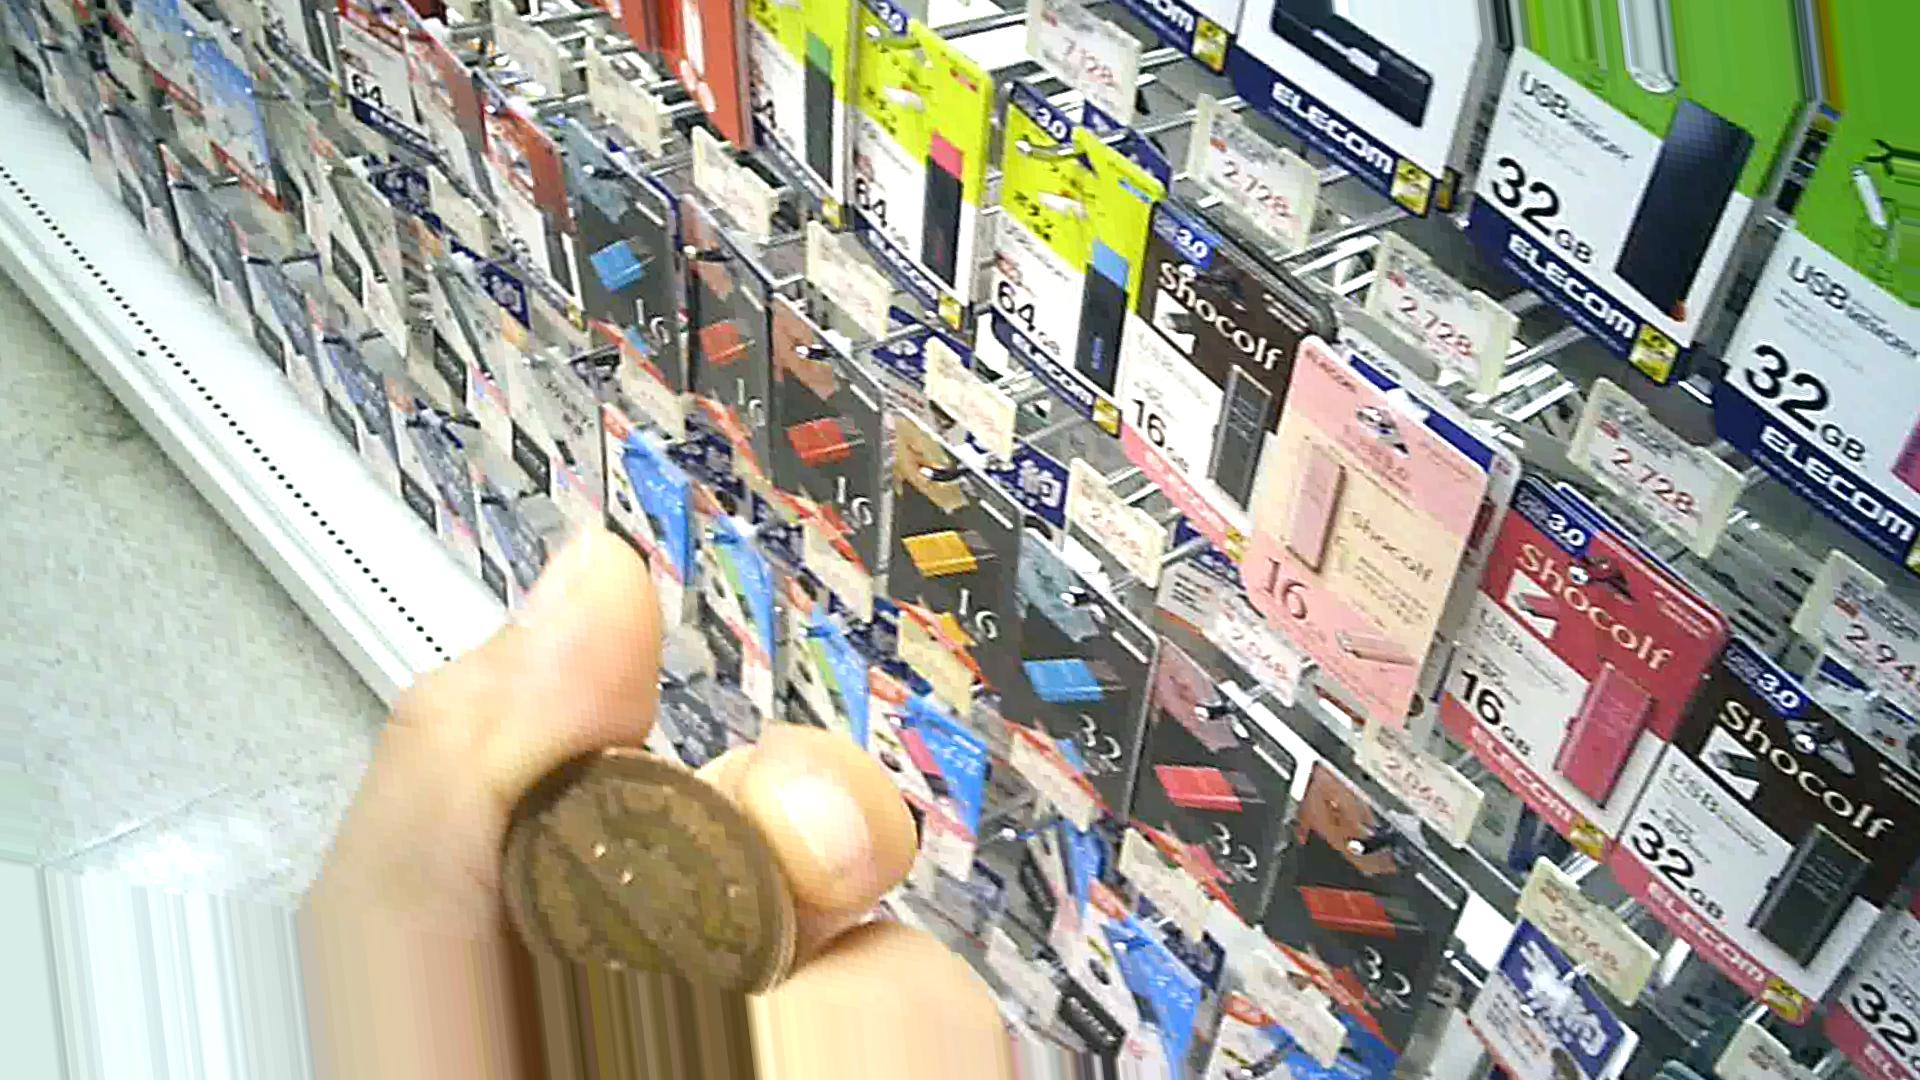10 Yen: (483, 744, 818, 1015)
